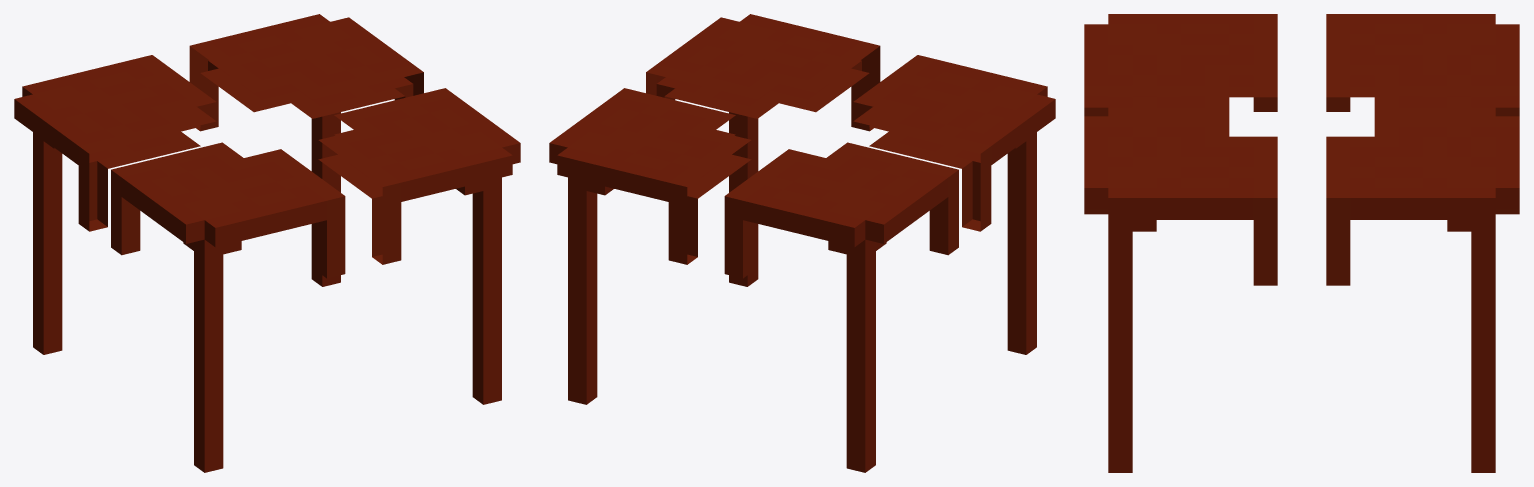
File: Restable_4.obj
3 views of the same model, side by side, from view 1: azimuth 30°, elevation 25°; view 2: azimuth 150°, elevation 25°; view 3: azimuth 270°, elevation 25° (orthographic). The views are drawn at different scales.
Size of the model in its own units: 1.8 by 1.3 by 1.8.
